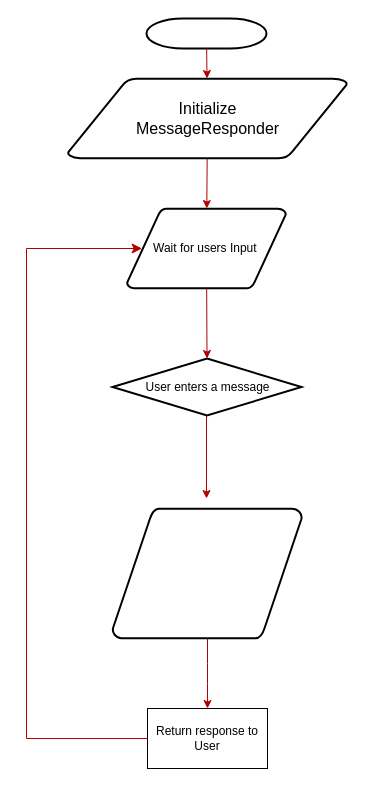
Some shapes in this 366 by 786 pixel diagram are drawn without their labels. The centre of each missing label's shape, as x and y in pixels:
"Analyze message and generate response" goes at point 206,573.
"start" goes at point 206,33.
